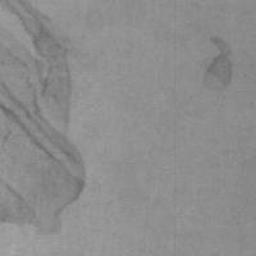Water spot: (0, 0, 88, 237), (201, 35, 233, 92)
